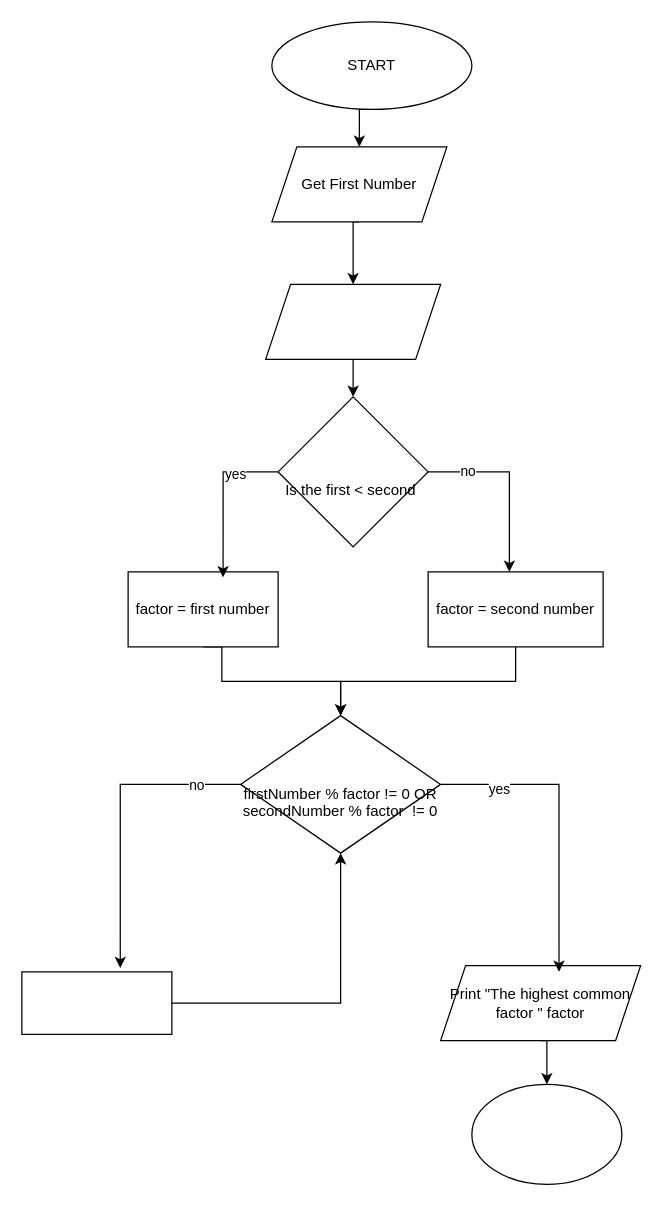
Some shapes in this 663 by 1206 pixel diagram are drawn without their labels. The shapes that lost their labels are listed below. From the top down, each one's centre as x and y in pixels, then its label:
(352,321): Get Second Number
(96,1002): factor = factor -1
(546,1133): end
